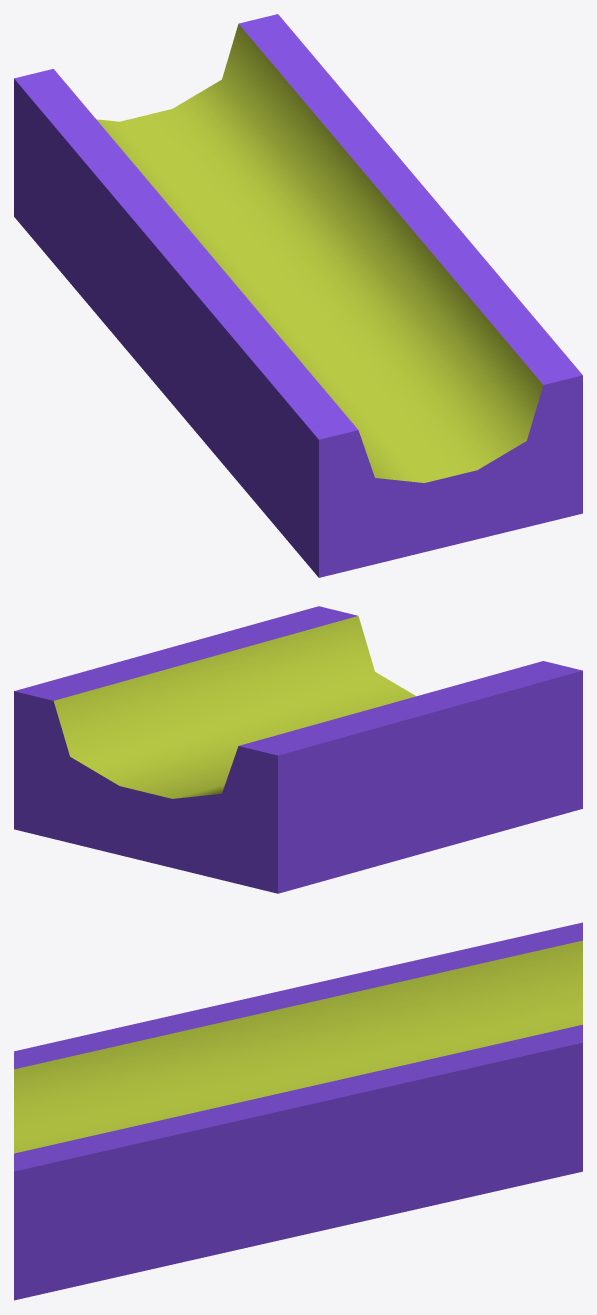
The model's file is slant_long_B-col.dae.
3 views of the same model, one above another, from view 1: azimuth 30°, elevation 25°; view 2: azimuth 150°, elevation 25°; view 3: azimuth 270°, elevation 25° (orthographic). The views are drawn at different scales.
Visible parts, largest first — view 1: slant_long_B-col; view 2: slant_long_B-col; view 3: slant_long_B-col.
Boxes of the visible parts, x1,y1,x2,y2 form: slant_long_B-col: [14, 14, 582, 577]; slant_long_B-col: [14, 606, 582, 893]; slant_long_B-col: [14, 922, 582, 1300].
Size of the model in its own units: 1 by 2 by 1.
